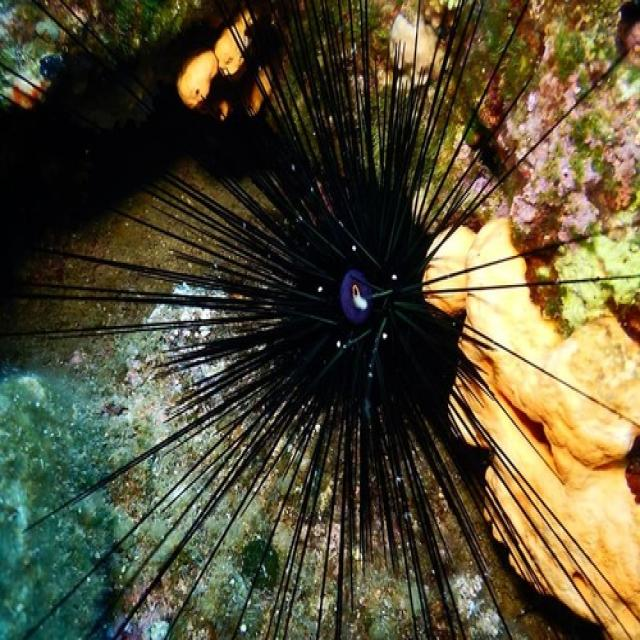Urchin: (22, 2, 637, 628)
